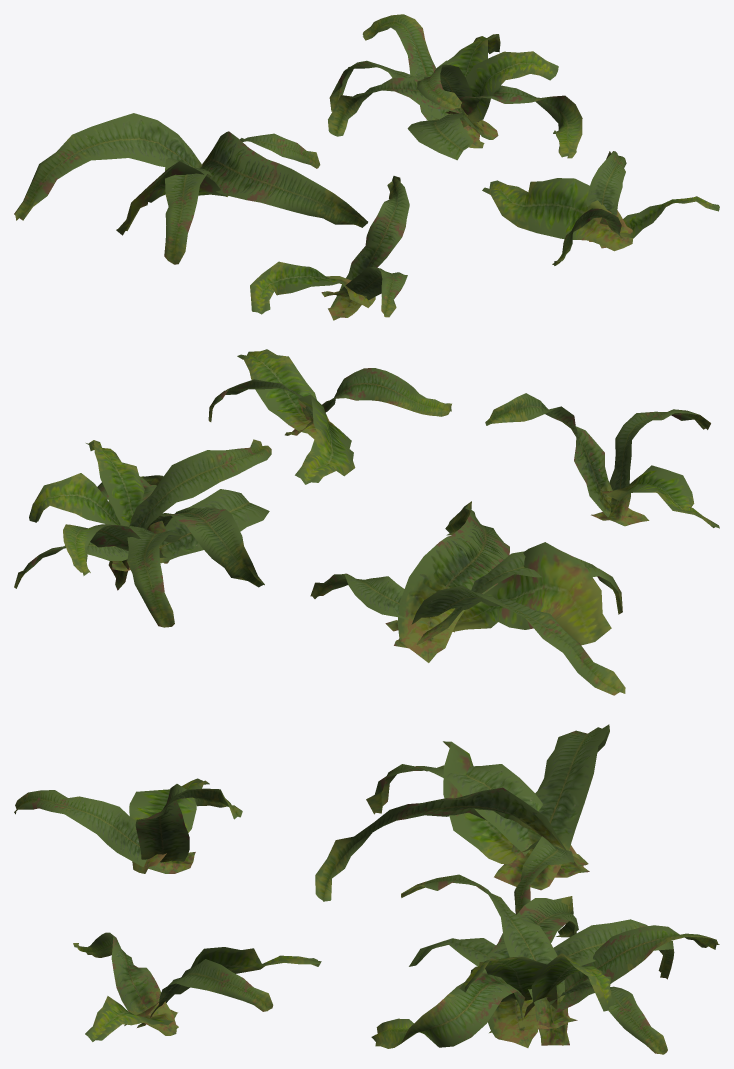
Rendered from kf_fern.glb.
The picture shows the model from 3 angles, top to bottom: view 1: azimuth 30°, elevation 25°; view 2: azimuth 150°, elevation 25°; view 3: azimuth 270°, elevation 25°; orthographic projection. The views are drawn at different scales.
Parts seen in each view (by area): view 1: fern_02_b, fern_02_c, fern_02_d, fern_02_a; view 2: fern_02_b, fern_02_c, fern_02_d, fern_02_a; view 3: fern_02_c, fern_02_b, fern_02_a, fern_02_d.
Part boxes in pixels (<box>): fern_02_b: <box>14,113,367,264</box>; fern_02_c: <box>328,14,582,160</box>; fern_02_d: <box>482,151,719,265</box>; fern_02_a: <box>250,176,409,320</box>; fern_02_b: <box>310,501,625,695</box>; fern_02_c: <box>14,439,271,627</box>; fern_02_d: <box>208,349,451,484</box>; fern_02_a: <box>485,393,719,528</box>; fern_02_c: <box>371,874,719,1054</box>; fern_02_b: <box>315,724,609,914</box>; fern_02_a: <box>14,778,242,873</box>; fern_02_d: <box>73,932,321,1041</box>.
Size of the model in its own units: 2.01 by 0.3993 by 1.88.
Materials: 1 (1 with a texture image).
